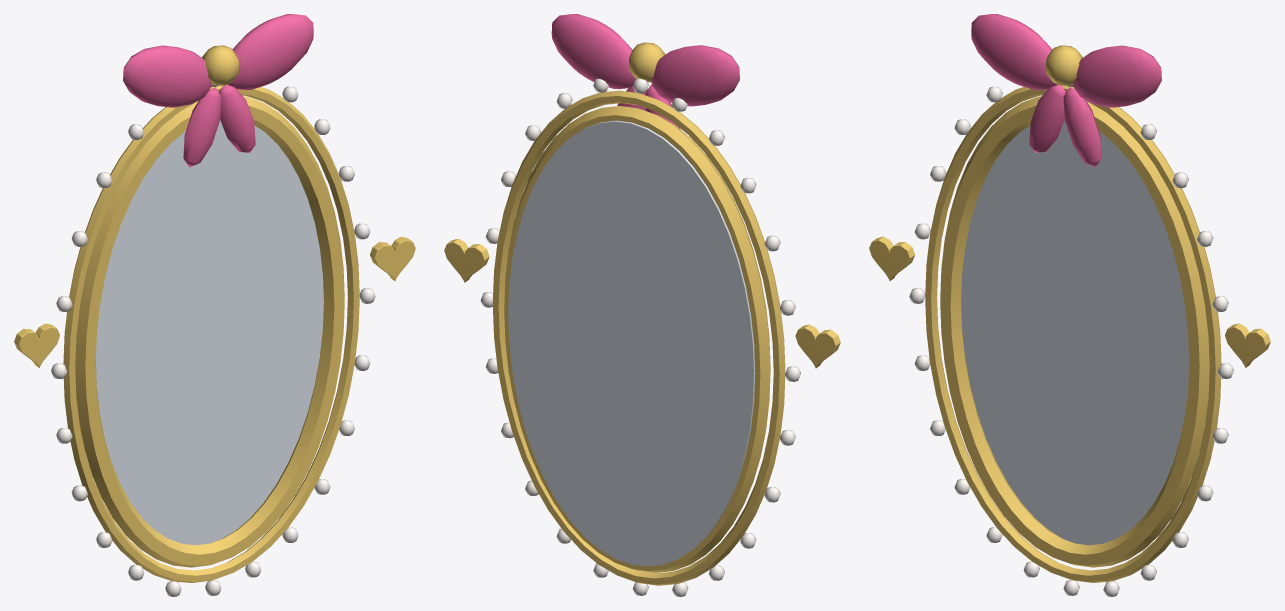
The model's file is mirror_wall_oval.glb.
3 renders of one model, left to right at view 1: azimuth 30°, elevation 25°; view 2: azimuth 150°, elevation 25°; view 3: azimuth 330°, elevation 25°, orthographic.
Parts seen in each view (by area): view 1: mirror_wall_oval; view 2: mirror_wall_oval; view 3: mirror_wall_oval.
Part boxes in pixels (<box>): mirror_wall_oval: <box>14,14,415,596</box>; mirror_wall_oval: <box>444,14,840,596</box>; mirror_wall_oval: <box>869,14,1270,596</box>.
Size of the model in its own units: 1.34 by 1.83 by 0.1527.
